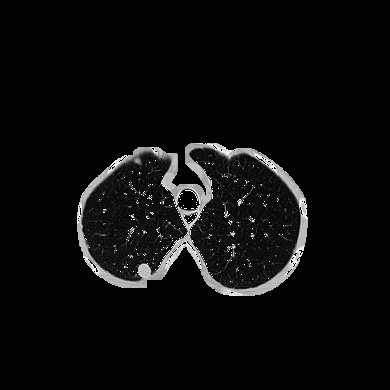PN: (136, 262, 152, 278)
